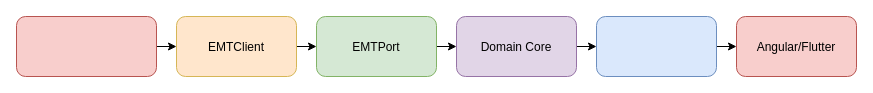
This 873x93 diagram has some shape labels left out. Each missing label, with the box of its shape:
EMT Madrid API: (16, 16, 156, 76)
FastAPI Routes: (596, 16, 716, 76)
